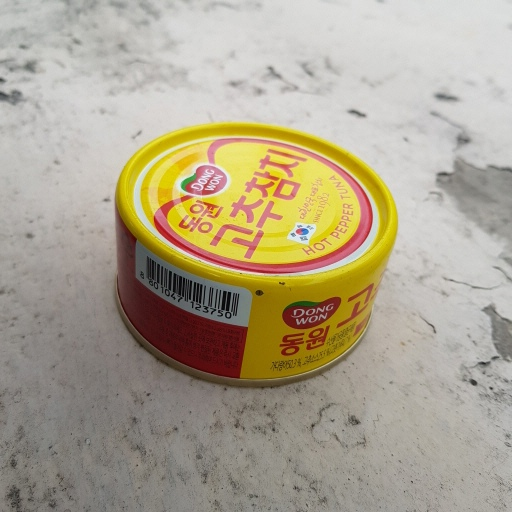Metal_1: (108, 121, 401, 389)
